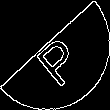P_NW: (26, 24, 84, 86)
